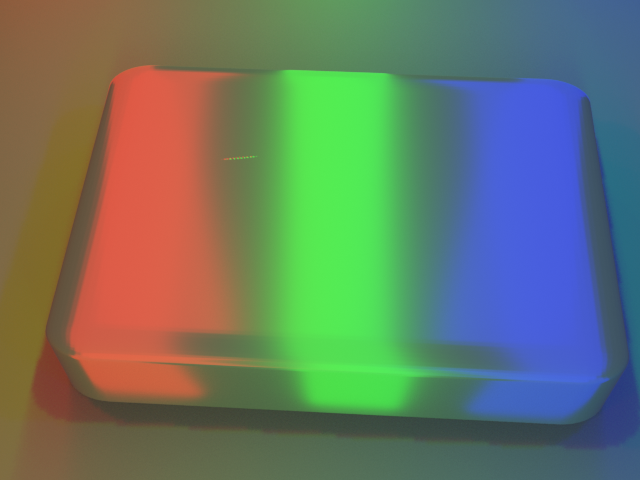scratch: (184, 122, 274, 172)
